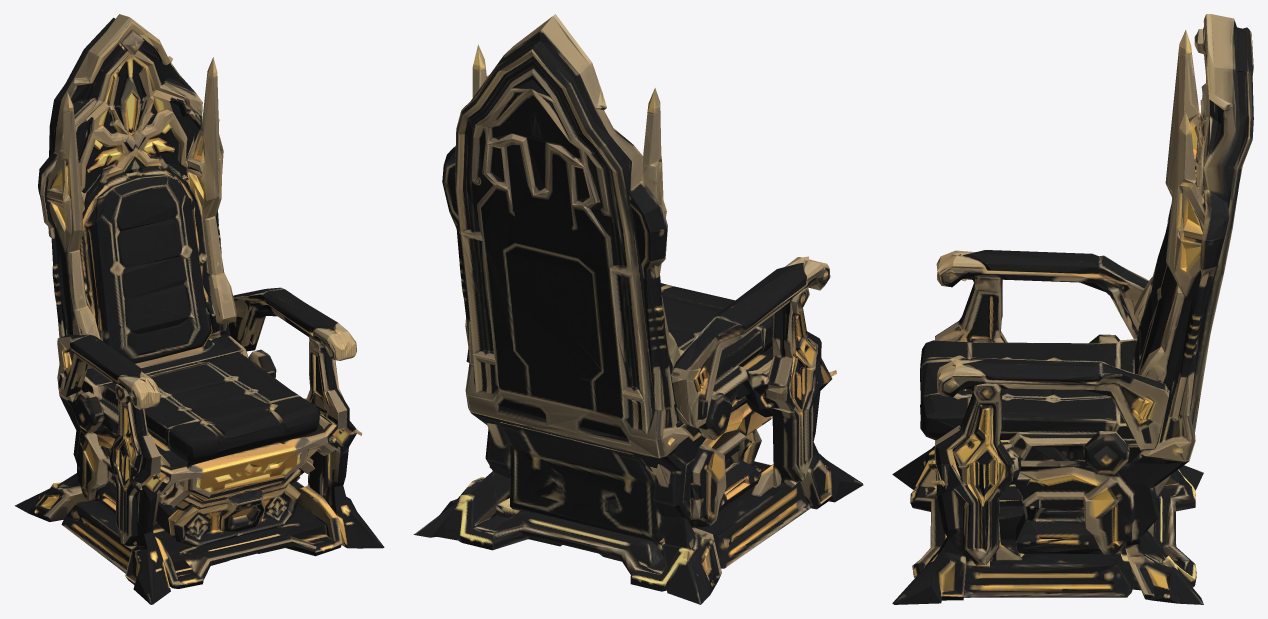
The model's file is throne.glb.
The picture shows the model from 3 angles, left to right: view 1: azimuth 30°, elevation 25°; view 2: azimuth 150°, elevation 25°; view 3: azimuth 270°, elevation 25°; orthographic projection. The views are drawn at different scales.
Visible parts, largest first — view 1: output_unwrapped; view 2: output_unwrapped; view 3: output_unwrapped.
Part boxes in pixels (x1,y1,x2,y2): output_unwrapped: (15, 14, 384, 604); output_unwrapped: (413, 14, 863, 604); output_unwrapped: (892, 14, 1253, 604).
Bounding box in the file's own units: 1.03 × 1.9 × 1.19.
Materials: 1 (1 with a texture image).
